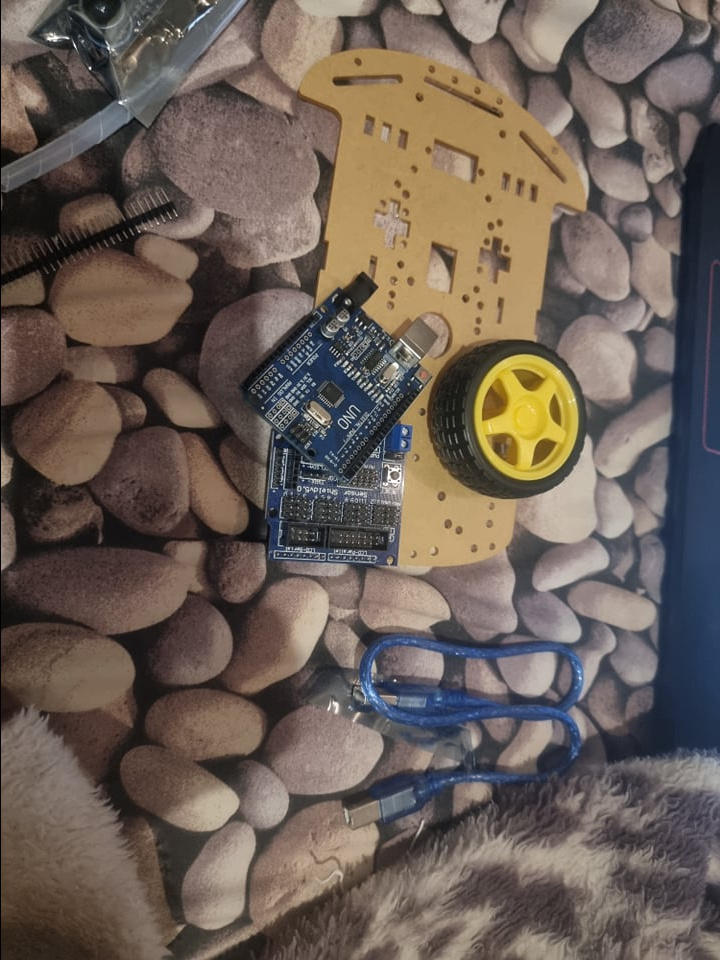5V EXPANSION: (266, 422, 413, 566)
UNO R3: (240, 272, 435, 482)
